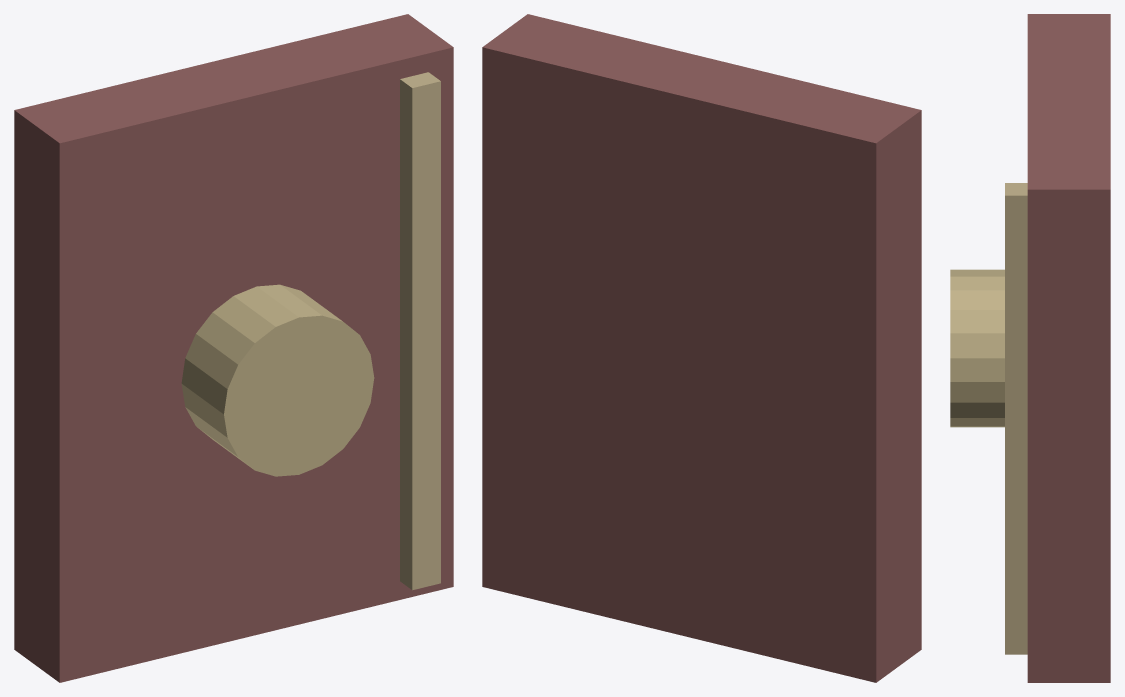
Rendered from ottoman_shield.glb.
3 views of the same model, side by side, from view 1: azimuth 30°, elevation 25°; view 2: azimuth 150°, elevation 25°; view 3: azimuth 270°, elevation 25° (orthographic). The views are drawn at different scales.
Visible parts, largest first — view 1: red_shield, shield_boss, brass_edge; view 2: red_shield; view 3: red_shield, brass_edge, shield_boss.
Part boxes in pixels (x1,y1,x2,y2): red_shield: [14, 14, 453, 682]; shield_boss: [181, 284, 374, 476]; brass_edge: [400, 72, 440, 590]; red_shield: [482, 14, 921, 682]; red_shield: [1027, 14, 1110, 682]; brass_edge: [1005, 183, 1027, 654]; shield_boss: [950, 269, 1004, 427].
Bounding box in the file's own units: 0.55 × 0.72 × 0.2125.
